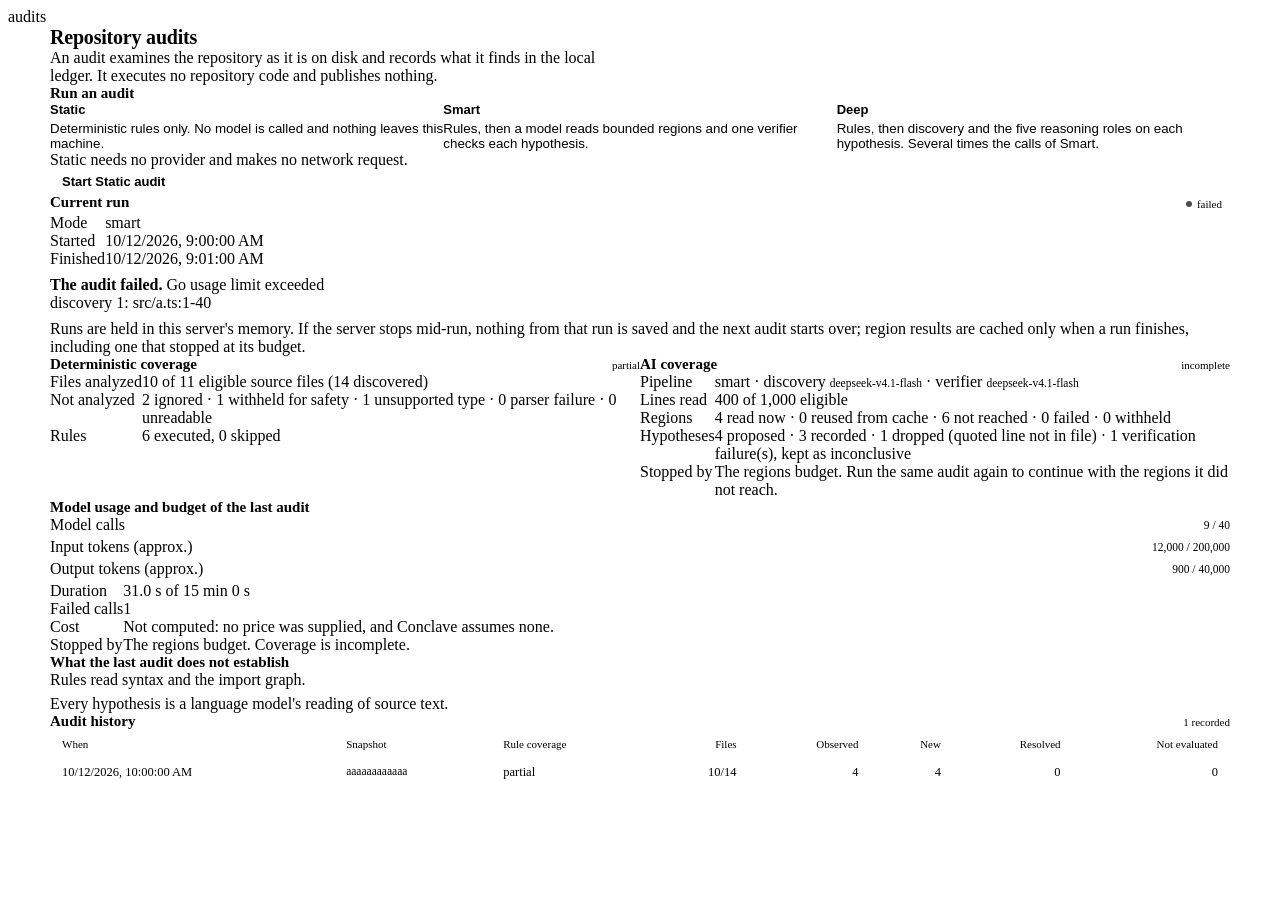
Test: audit controls › explains an unavailable provider and a failed run, with incomplete coverage of the last audit
Expected: the element named "Audit run status" shows "Go usage limit exceeded", [166,276,324,293]
Expected: the element "AI coverage" shows "6 not reached", [640,356,1230,499]
Click the radio button labelled "Deep". click: (1033, 126)
box: [837,102,1230,151]
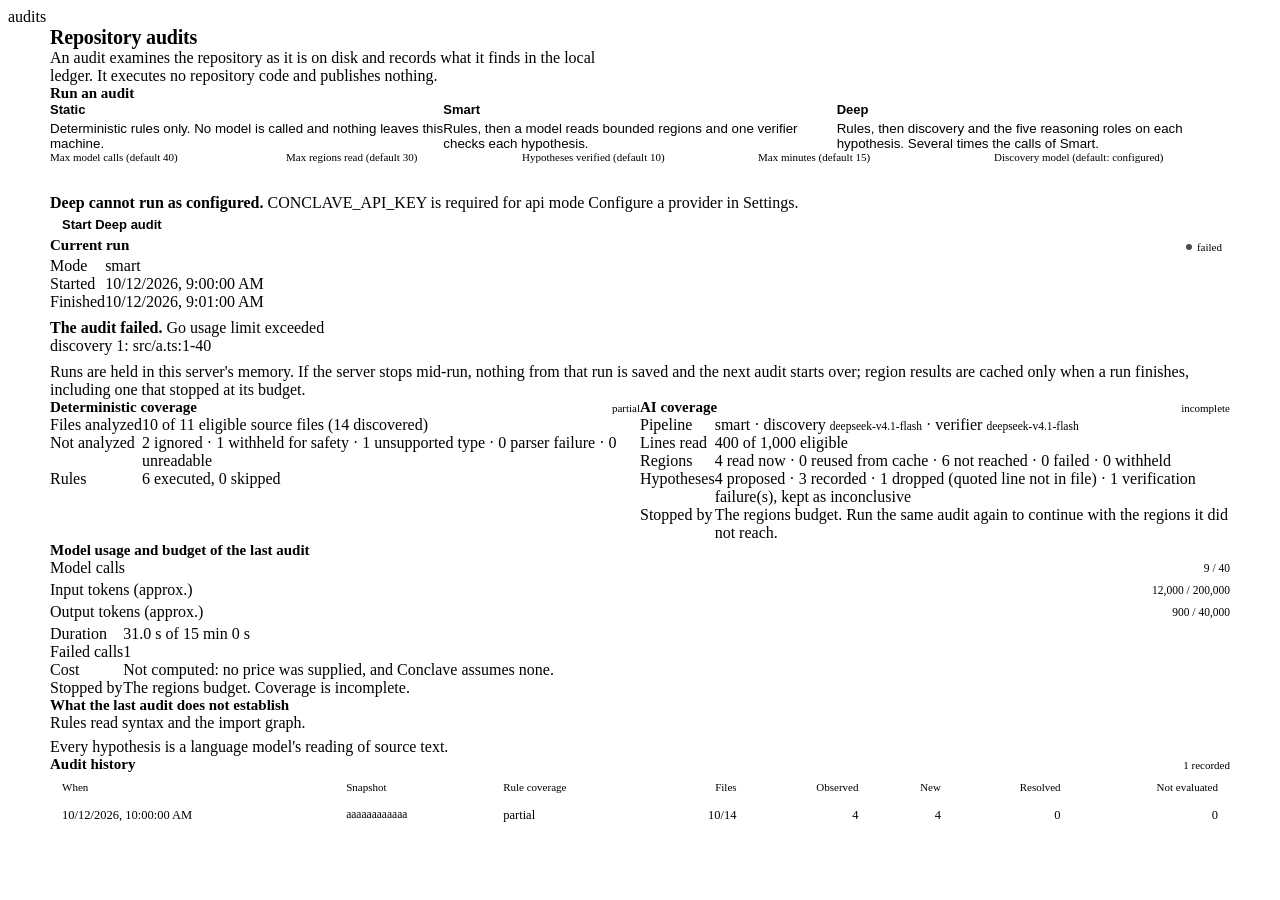
Result: the button "Start Deep audit" is disabled at [50,212,174,237]
